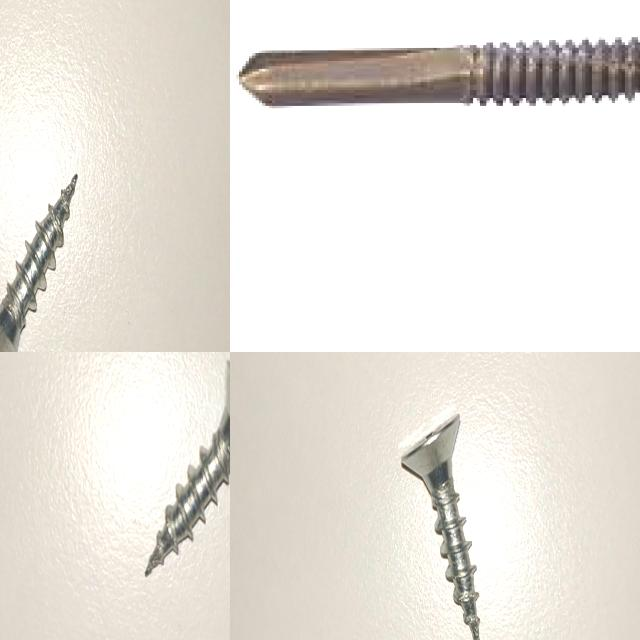Screw: (236, 39, 640, 111), (145, 360, 230, 575), (401, 414, 480, 640), (0, 174, 78, 352)
